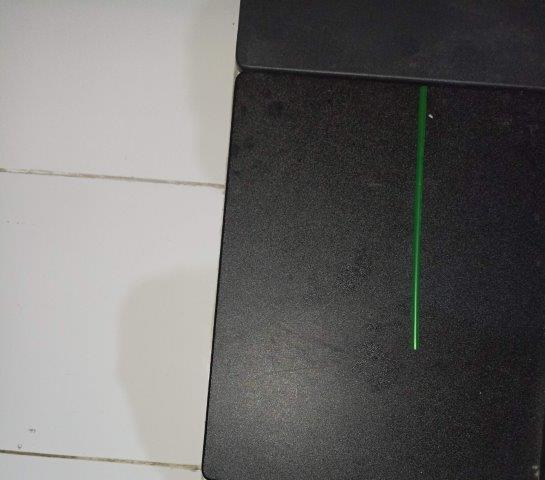sedotan: (411, 86, 427, 350)
